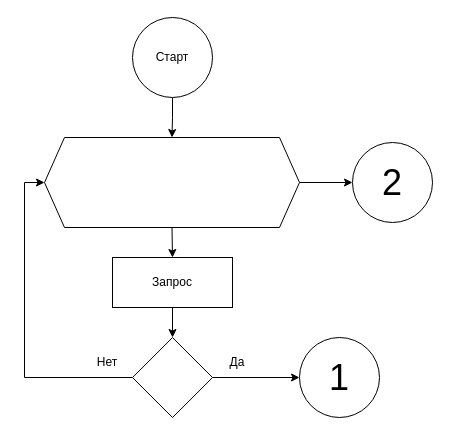
Some shapes in this 450 by 435 pixel diagram are drawn without their labels. The centre of each missing label's shape, as x and y in pixels:
for сайт in все_сайты_вне_белых_списков: the point at 172,182
ответ - OK: the point at 172,377
